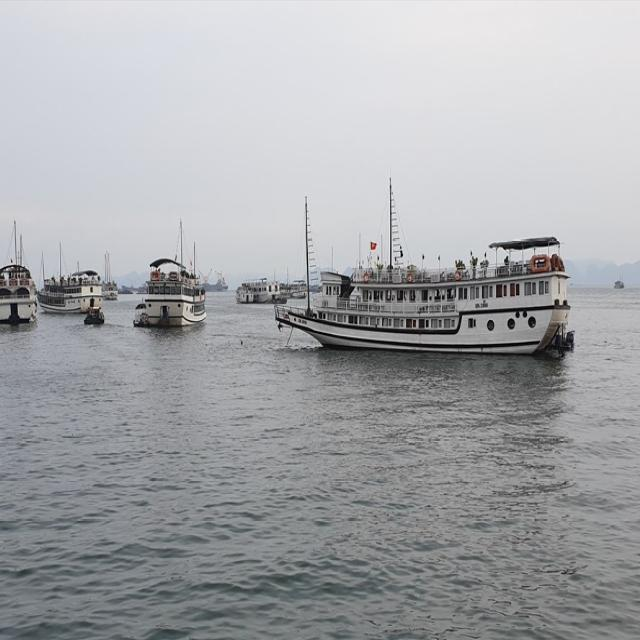passenger ship: (272, 232, 609, 350), (139, 254, 201, 341), (0, 253, 39, 360), (243, 257, 306, 302), (55, 284, 112, 330)
